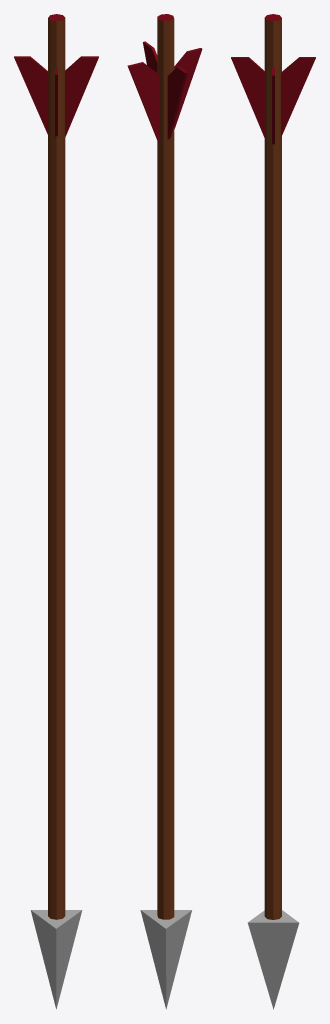
The model's file is Arrow.fbx.
3 views of the same model, side by side, from view 1: azimuth 90°, elevation 25°; view 2: azimuth 210°, elevation 25°; view 3: azimuth 270°, elevation 25° (orthographic).
Parts seen in each view (by area): view 1: Arrow; view 2: Arrow; view 3: Arrow.
Part boxes in pixels (bbox=[...]): Arrow: bbox=[14, 14, 98, 1009]; Arrow: bbox=[127, 14, 202, 1009]; Arrow: bbox=[231, 14, 315, 1009].
Bounding box in the file's own units: 42.52 × 548 × 42.52.
